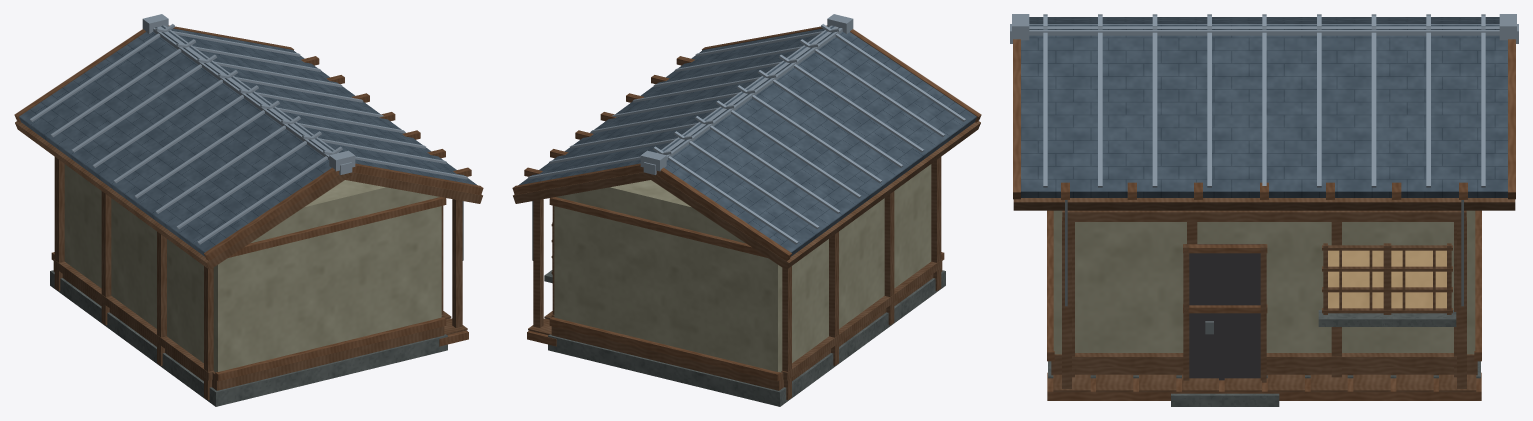
The model's file is kominka_01.glb.
3 views of the same model, side by side, from view 1: azimuth 30°, elevation 25°; view 2: azimuth 150°, elevation 25°; view 3: azimuth 270°, elevation 25° (orthographic). The views are drawn at different scales.
Visible parts, largest first — view 1: TsukimoriSharedHome; view 2: TsukimoriSharedHome; view 3: TsukimoriSharedHome.
Part boxes in pixels (box(x1,y1,x2,y2)): TsukimoriSharedHome: box(14, 14, 483, 406); TsukimoriSharedHome: box(512, 14, 981, 406); TsukimoriSharedHome: box(1010, 14, 1518, 406).
Bounding box in the file's own units: 6.07 × 4.73 × 7.24.
9 materials, 6 textured.
